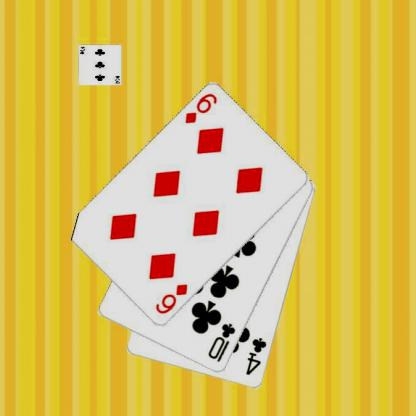10C: (206, 320, 237, 364)
4C: (243, 335, 268, 377)
6D: (182, 91, 219, 125), (152, 282, 189, 315)
